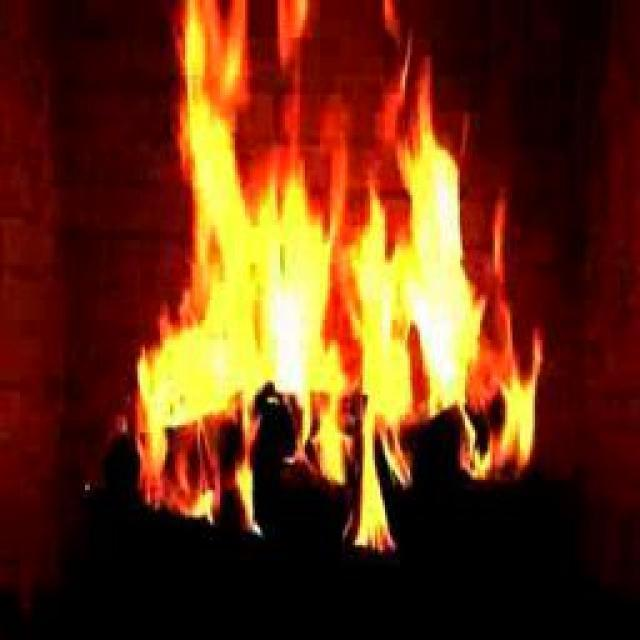Fire: (148, 42, 484, 465)
